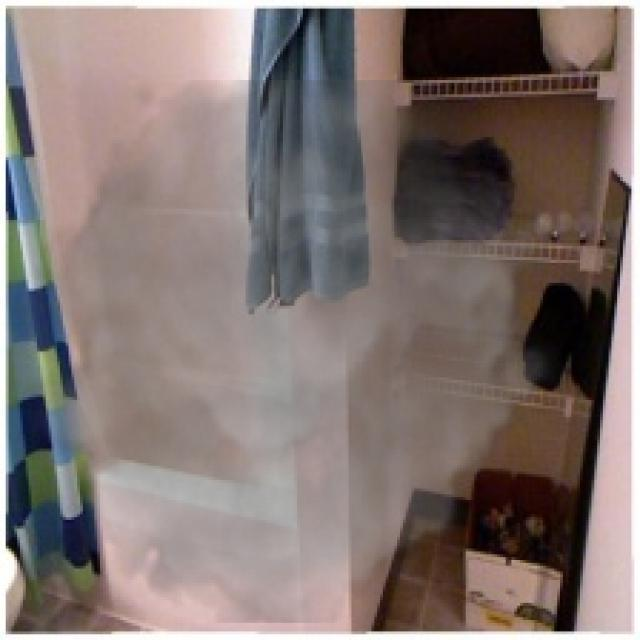Smoke: (19, 80, 572, 623)
